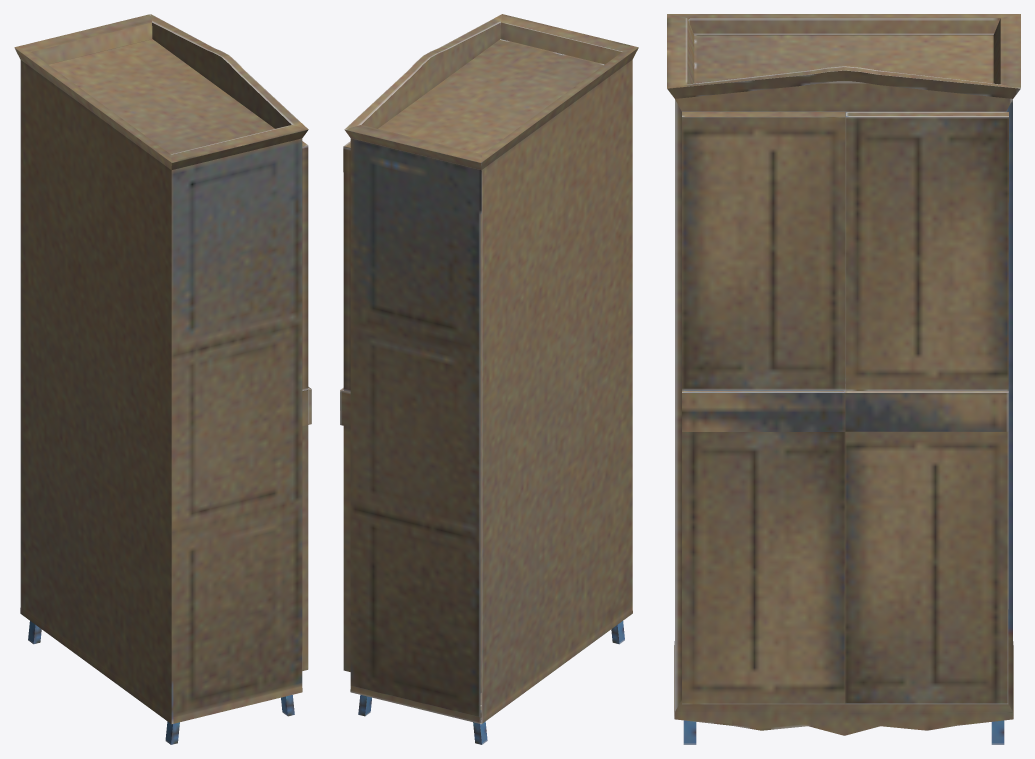
The model's file is warn wardrobe2.fbx.
The picture shows the model from 3 angles, left to right: view 1: azimuth 30°, elevation 25°; view 2: azimuth 150°, elevation 25°; view 3: azimuth 270°, elevation 25°; orthographic projection. The views are drawn at different scales.
Parts seen in each view (by area): view 1: Warn Wardrobe2, Warn Wardrobe Door2.001; view 2: Warn Wardrobe2, Warn Wardrobe Door.001; view 3: Warn Wardrobe Door2.001, Warn Wardrobe Door.001, Warn Wardrobe2.
Boxes of the visible parts, x1,y1,x2,y2 form: Warn Wardrobe2: (14, 14, 308, 744); Warn Wardrobe Door2.001: (302, 141, 311, 670); Warn Wardrobe2: (344, 14, 638, 744); Warn Wardrobe Door.001: (340, 141, 350, 671); Warn Wardrobe Door2.001: (682, 112, 845, 704); Warn Wardrobe Door.001: (845, 112, 1008, 704); Warn Wardrobe2: (667, 14, 1020, 744).
Size of the model in its own units: 112 by 442 by 209.
